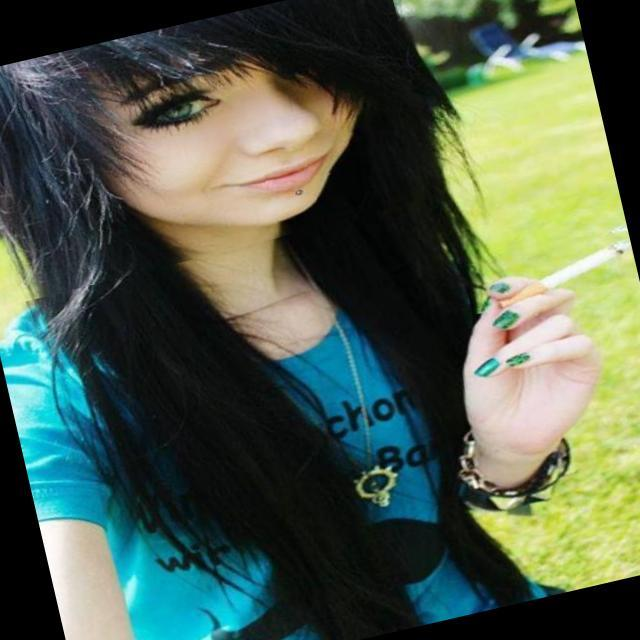cigarette: (458, 215, 638, 314)
